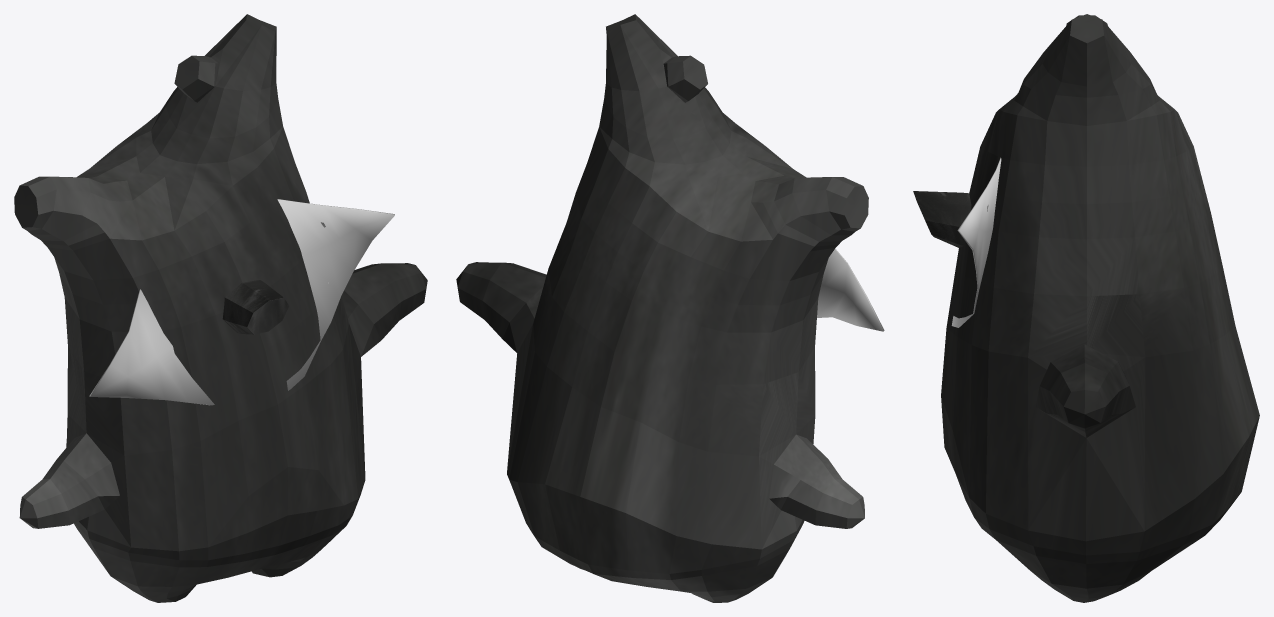
File: frame_0010.obj
3 views of the same model, side by side, from view 1: azimuth 30°, elevation 25°; view 2: azimuth 150°, elevation 25°; view 3: azimuth 270°, elevation 25° (orthographic). The views are drawn at different scales.
Parts seen in each view (by area): view 1: korok, leaf, nose; view 2: korok, leaf; view 3: korok, leaf, nose.
Part boxes in pixels (x1,y1,x2,y2): korok: [14, 14, 427, 602]; leaf: [89, 199, 394, 405]; nose: [222, 280, 289, 334]; korok: [456, 14, 868, 602]; leaf: [817, 248, 884, 331]; korok: [941, 14, 1259, 602]; leaf: [951, 157, 1001, 327]; nose: [913, 191, 971, 247].
Bounding box in the file's own units: 1.76 × 2.31 × 1.27.
